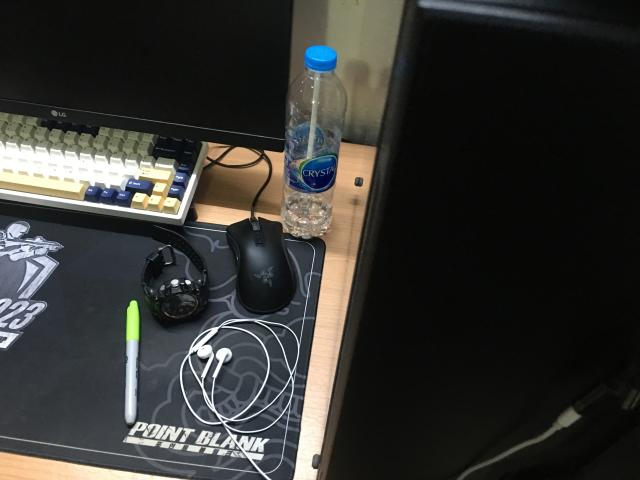Mouse: (226, 218, 296, 314)
Pen: (125, 301, 140, 425)
Watch: (141, 226, 210, 324)
bottle: (281, 46, 348, 239)
wire: (180, 319, 300, 479)
